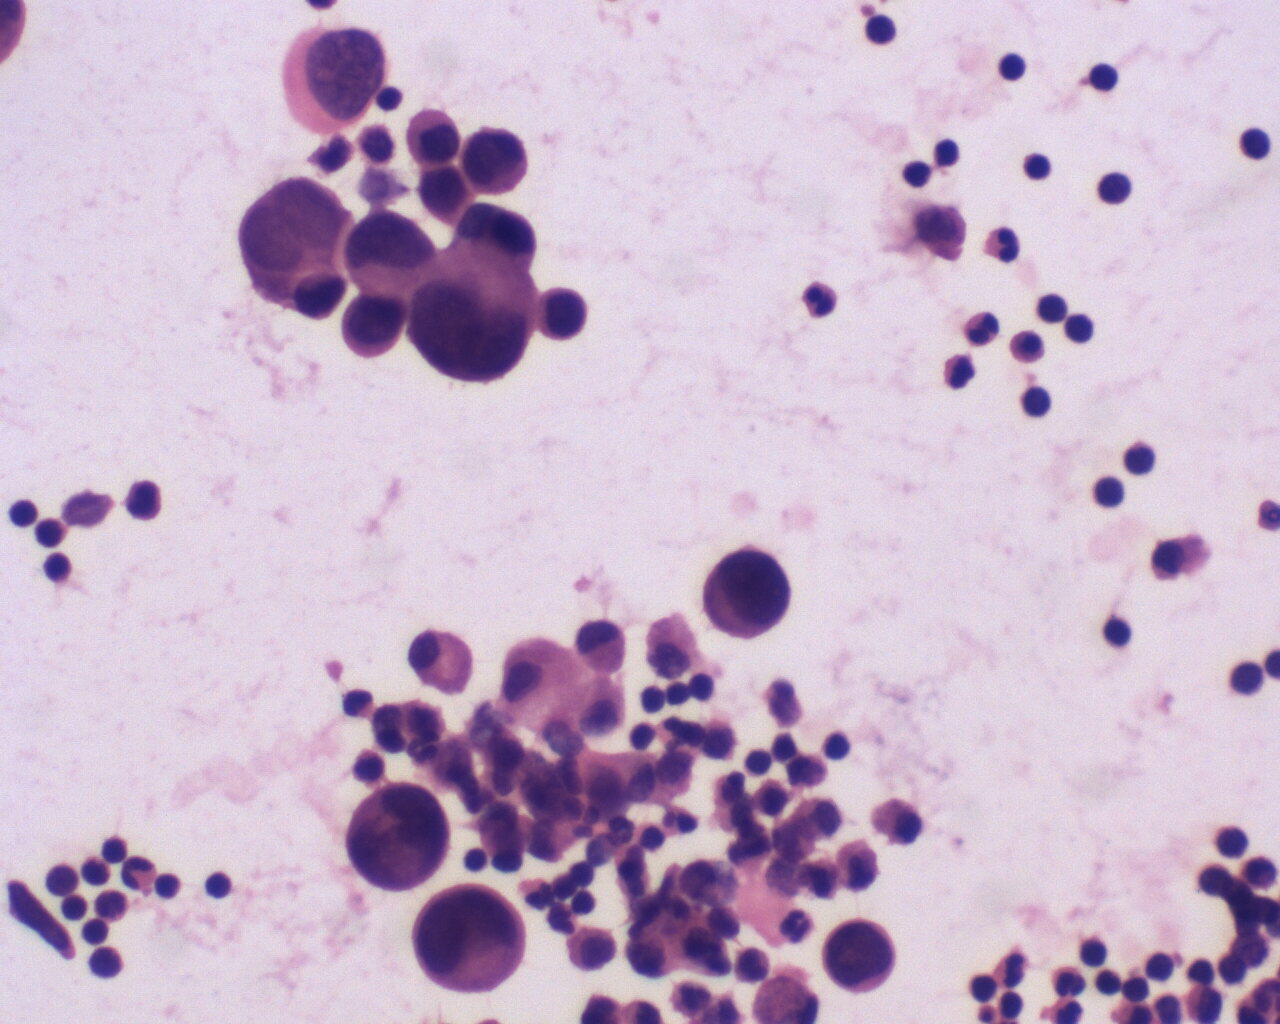ab: (409, 245, 540, 388), (233, 177, 355, 322), (280, 23, 388, 143), (410, 884, 523, 994), (344, 784, 453, 895), (701, 545, 796, 642), (345, 208, 441, 299), (459, 123, 538, 202), (819, 914, 897, 995), (340, 290, 408, 360), (534, 280, 589, 346)
lymph: (858, 11, 906, 52), (1089, 164, 1132, 207), (1084, 59, 1128, 97), (39, 548, 78, 589), (83, 945, 126, 982), (1098, 609, 1137, 651), (1238, 124, 1279, 163), (1093, 469, 1128, 512), (1023, 144, 1061, 184), (1019, 379, 1053, 421), (994, 45, 1030, 83), (44, 863, 80, 900), (205, 869, 240, 907)
meso: (408, 106, 466, 169)
neutro: (790, 279, 839, 325), (121, 853, 165, 897), (983, 220, 1024, 267), (961, 305, 999, 346)
